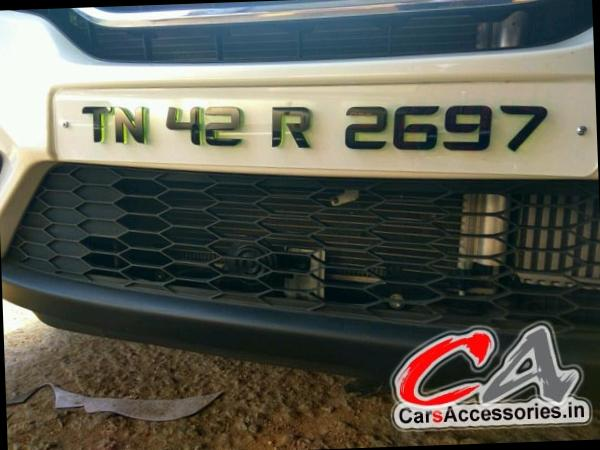plate: (42, 63, 597, 197)
